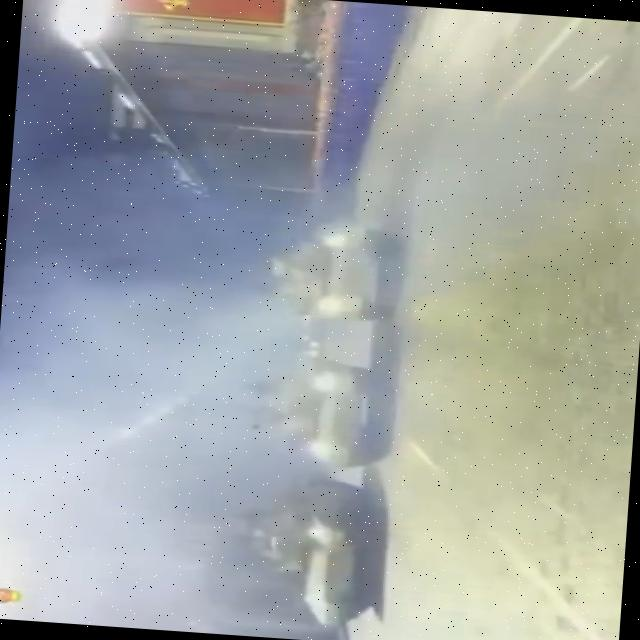north tank: (205, 470, 424, 626), (238, 338, 422, 471), (240, 202, 420, 328)
